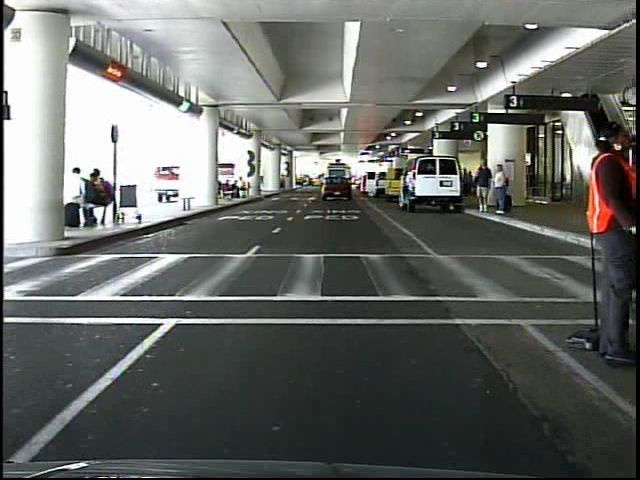person: (577, 122, 638, 361), (473, 154, 493, 217), (492, 160, 512, 221), (318, 170, 329, 194)
